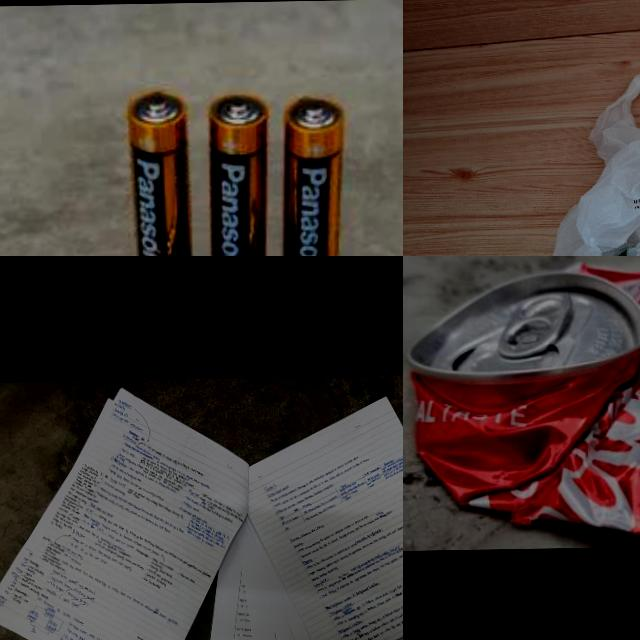aba de lata: (496, 291, 574, 358)
bateria: (127, 87, 194, 256), (278, 94, 347, 256), (205, 91, 269, 256)
lata: (405, 257, 640, 550)
papel: (0, 378, 403, 640)
sacola plástica: (547, 65, 640, 256)
